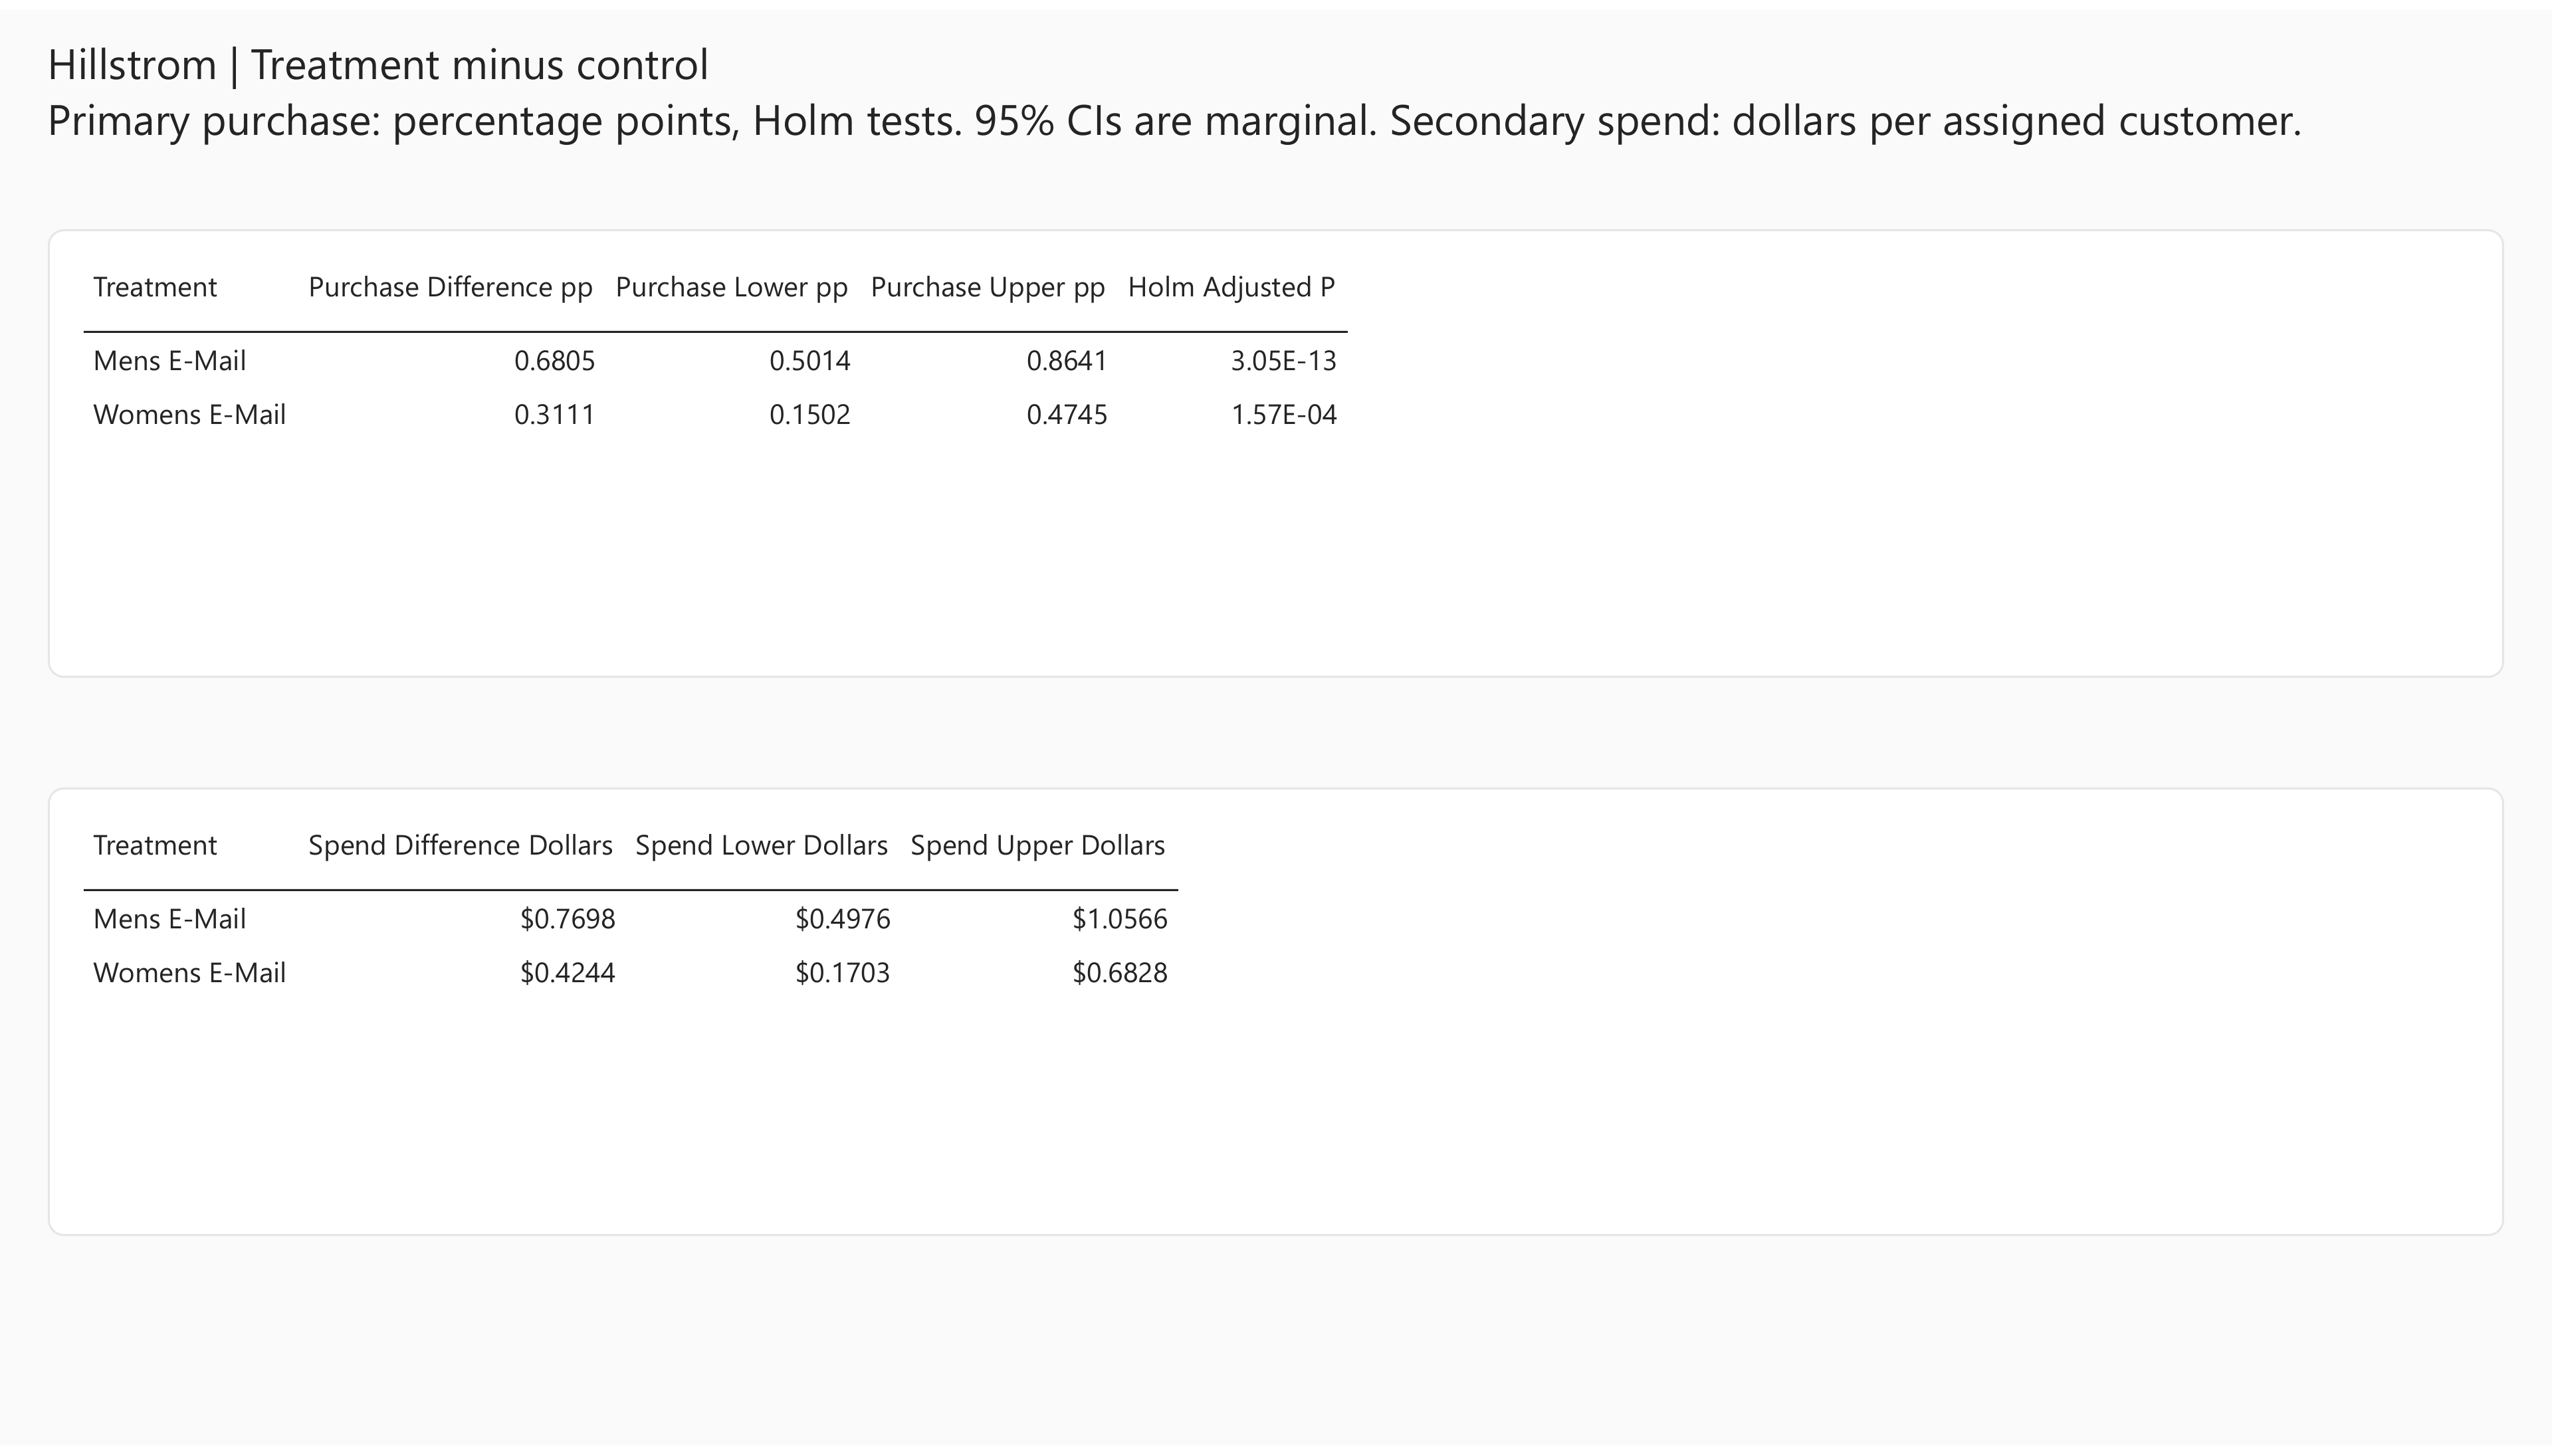

This screenshot's page, from the dashboard's own definition file:
{"tool":"powerbi","page":{"name":"06 Experiment Effects","canvas":[1280,720],"ordinal":5},"visuals":[{"type":"tableEx","fields":{"Values":["biExperimentEffects.Treatment","biExperimentEffects.Purchase Difference pp","biExperimentEffects.Purchase Lower pp","biExperimentEffects.Purchase Upper pp","biExperimentEffects.Holm Adjusted P"]},"box":[24,110,1232,225],"z":0},{"type":"tableEx","fields":{"Values":["biExperimentEffects.Treatment","biExperimentEffects.Spend Difference Dollars","biExperimentEffects.Spend Lower Dollars","biExperimentEffects.Spend Upper Dollars"]},"box":[24,390,1232,225],"z":1},{"type":"textbox","box":[24,12,1232,80],"z":2}]}

Visuals, with their boxes in screenshot pixels (x1, y1, x2, y2), scaled from the page's 1280x720 canvas onto the 2552x1456 screenshot:
tableEx - biExperimentEffects.Treatment x biExperimentEffects.Purchase Difference pp: [x1=48, y1=223, x2=2504, y2=677]
tableEx - biExperimentEffects.Treatment x biExperimentEffects.Spend Difference Dollars: [x1=48, y1=789, x2=2504, y2=1243]
textbox: [x1=48, y1=25, x2=2504, y2=186]
